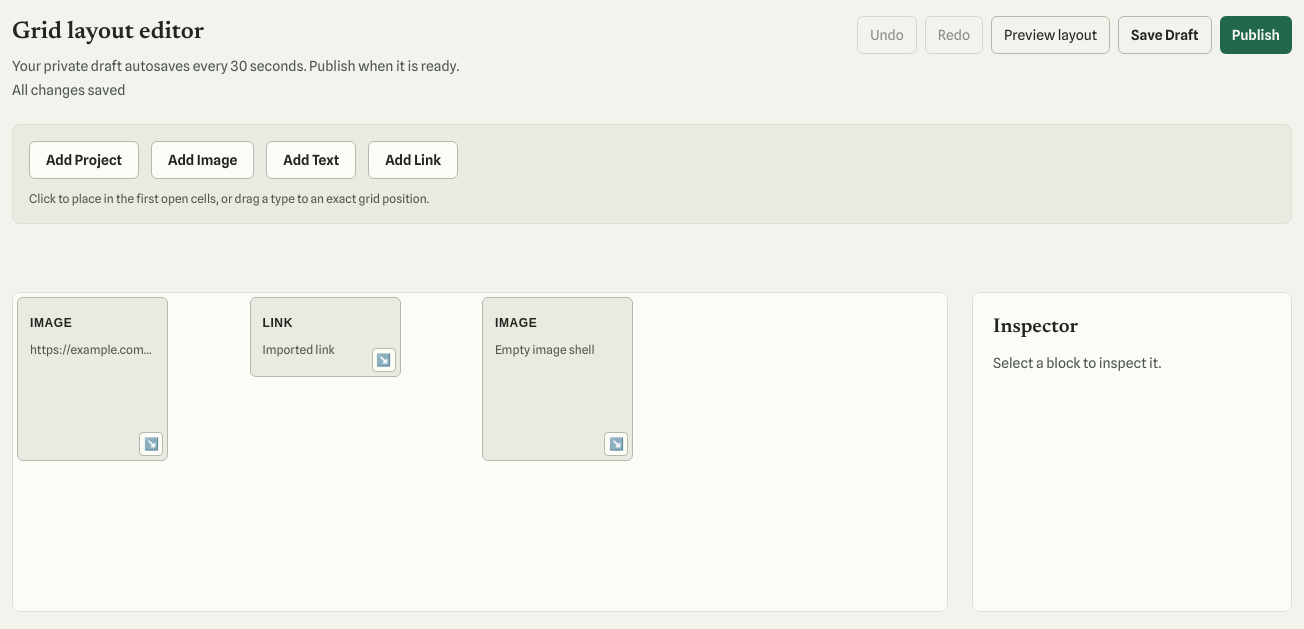
Test: GridLayoutEditor content and preview › shows imported image/link details as server-read-only and labels new empty shells
Click the button with aria-label "select image block image" at (92, 379), box [17,297,168,461]
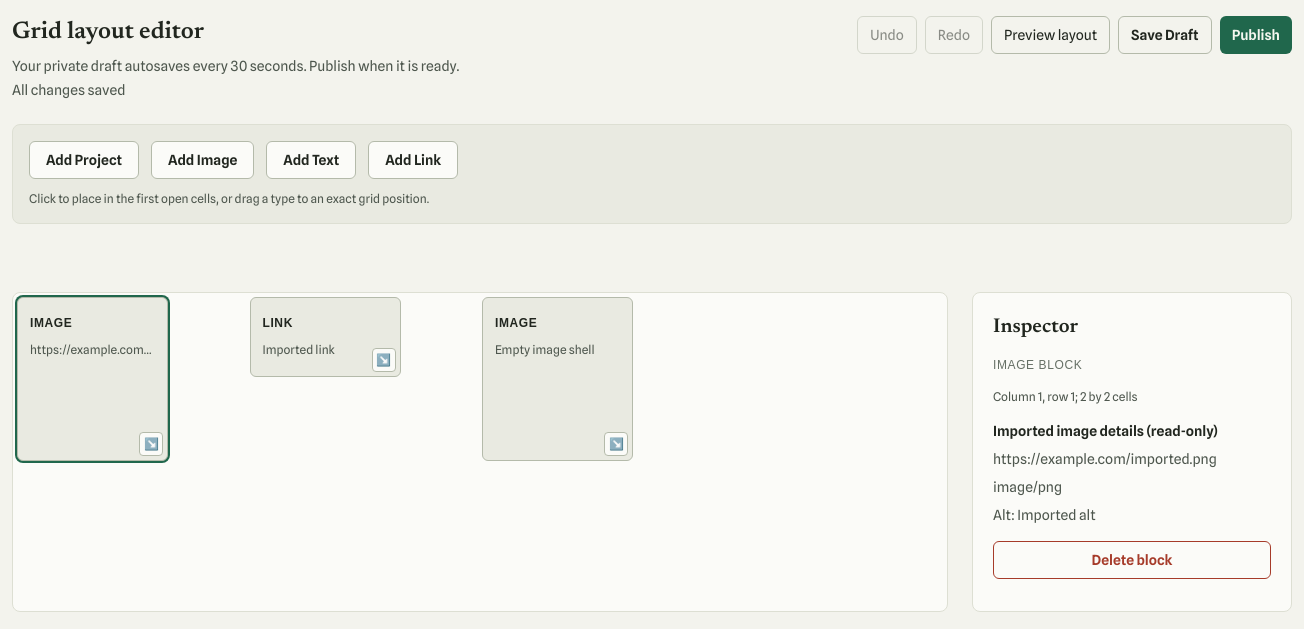
Expected: the text "https://example.com/imported.png" is shown 2 times, [30,342,155,358]; [993,451,1217,467]
Result: the text "Imported image details (read-only)" is shown at [993,423,1218,439]
Click the button with aria-label "select link block link" at (325, 337), box [250,297,400,377]
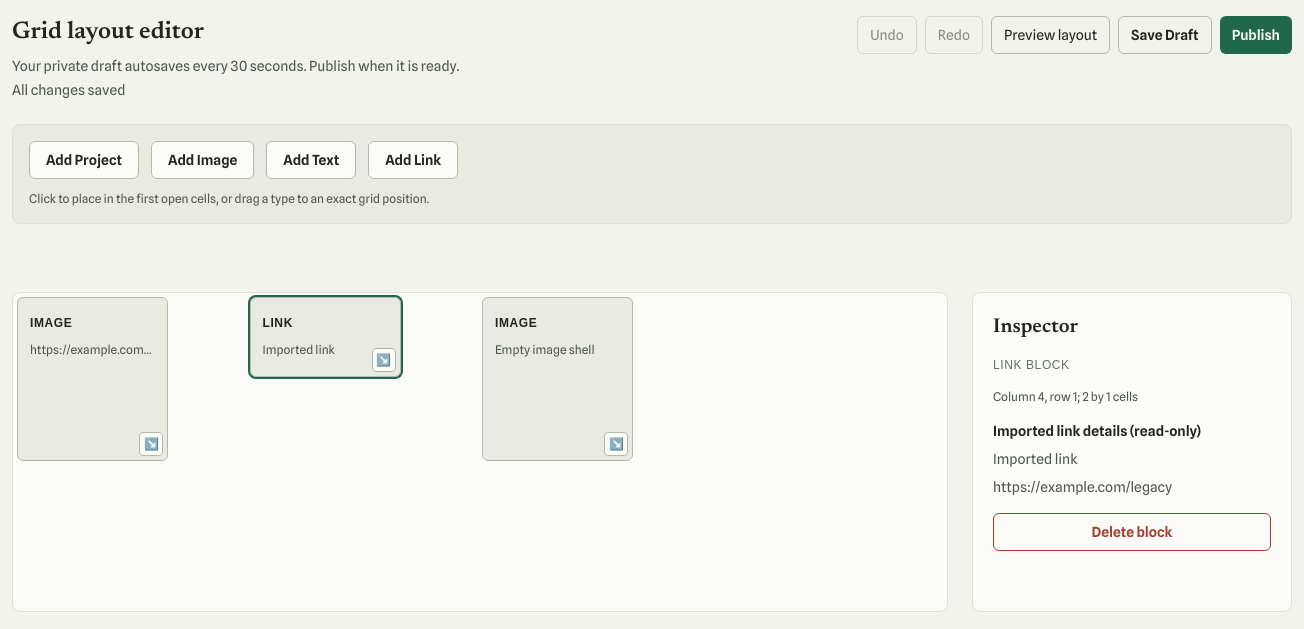
Result: the text "Imported link details (read-only)" is shown at [993,423,1201,439]
Result: the text "https://example.com/legacy" is shown once at [993,479,1172,495]
Click the button with aria-label "select image block empty" at (558, 379), box [482,297,633,461]
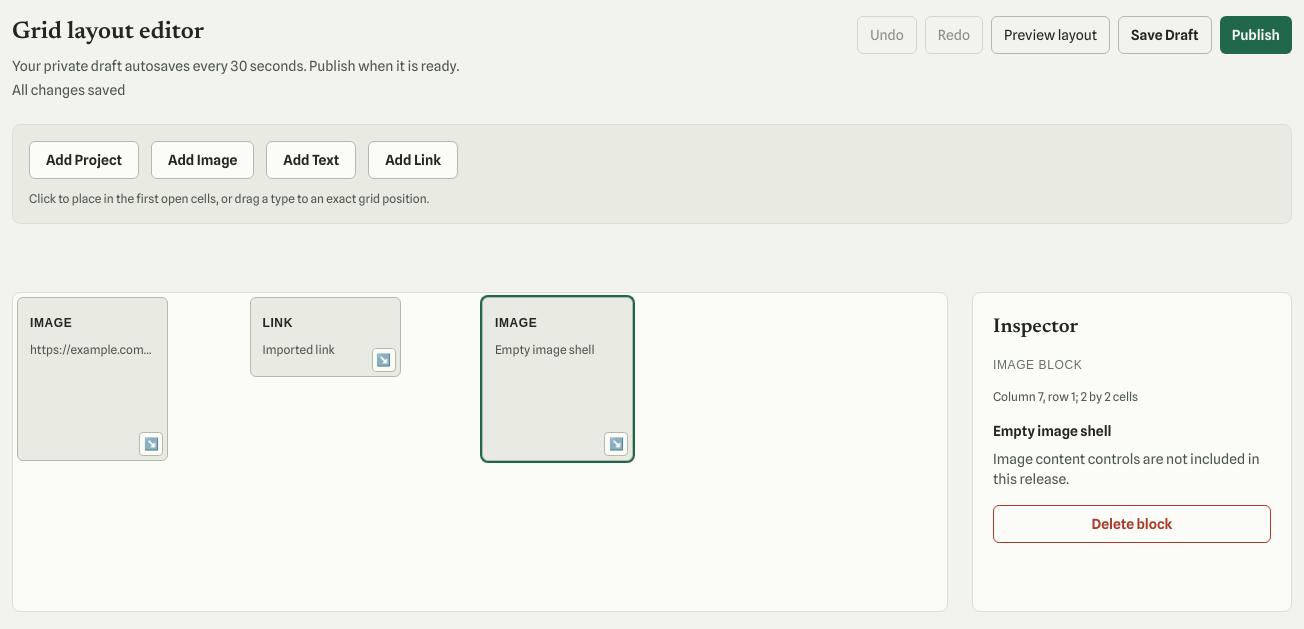
Expected: the text "Empty image shell" is shown 2 times, [495,342,594,357]; [993,423,1112,439]
Result: the text "Image content controls are not included in this release." is shown at [993,449,1271,489]
